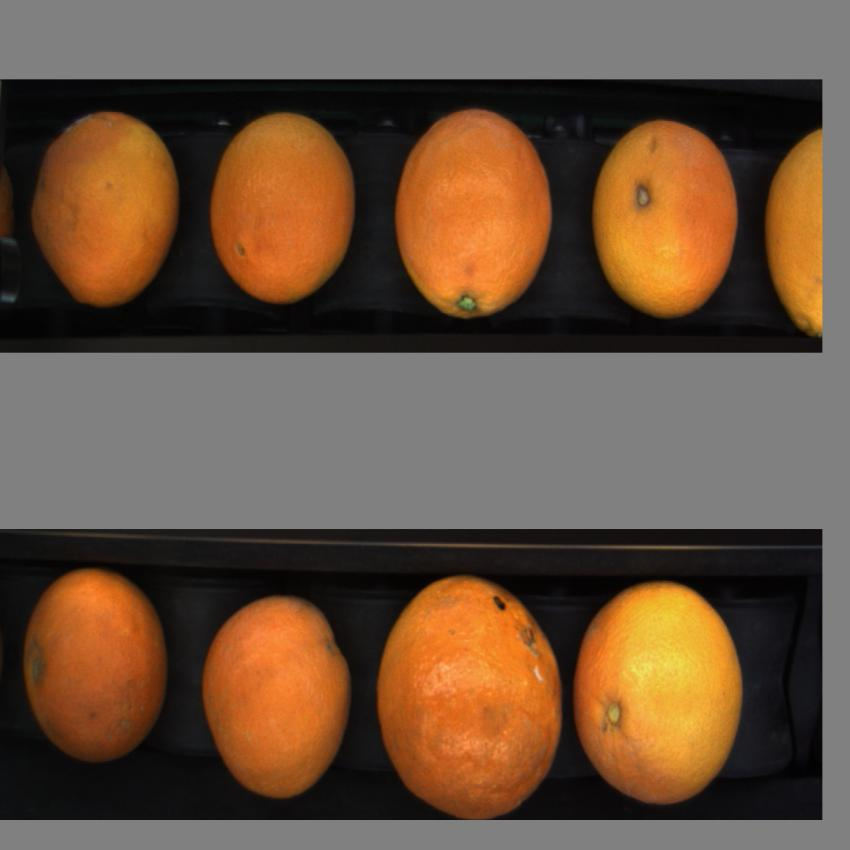Buen estado: (568, 567, 752, 817), (390, 97, 560, 340), (190, 588, 363, 814), (200, 100, 365, 318), (582, 105, 743, 325), (26, 100, 186, 318), (15, 560, 175, 773), (760, 113, 820, 348)
Mal estado: (372, 562, 567, 824)
